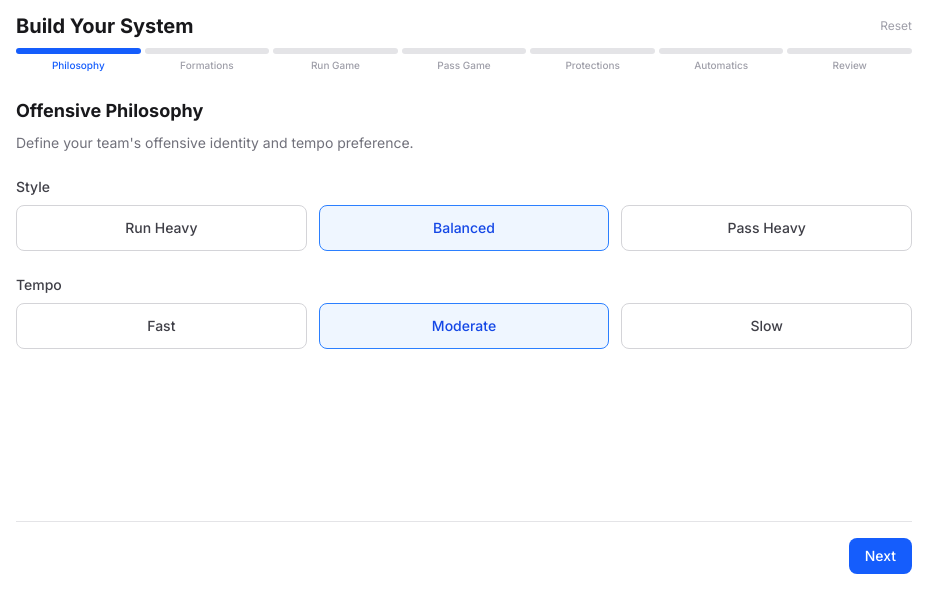
Scenario: SystemBuilder › resets to default state when clicking Reset
The image size is (930, 591).
// Navigate to formations
Click the button with test id "next-button" at (880, 556), box [849,538,912,574]
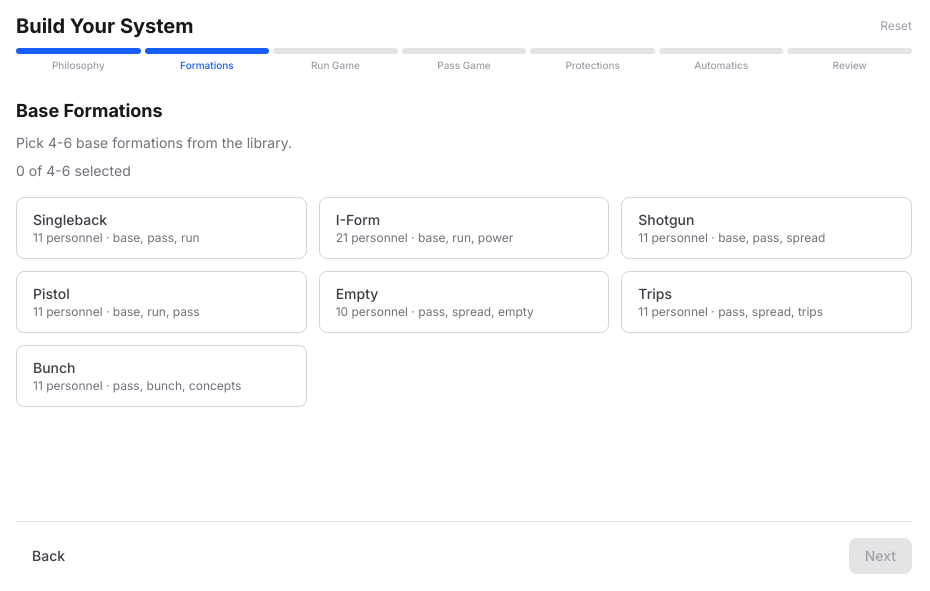
Result: the element with test id "step-formations" is shown at [16,97,912,407]
Click the button with test id "reset-button" at (896, 26), box [880,18,912,34]
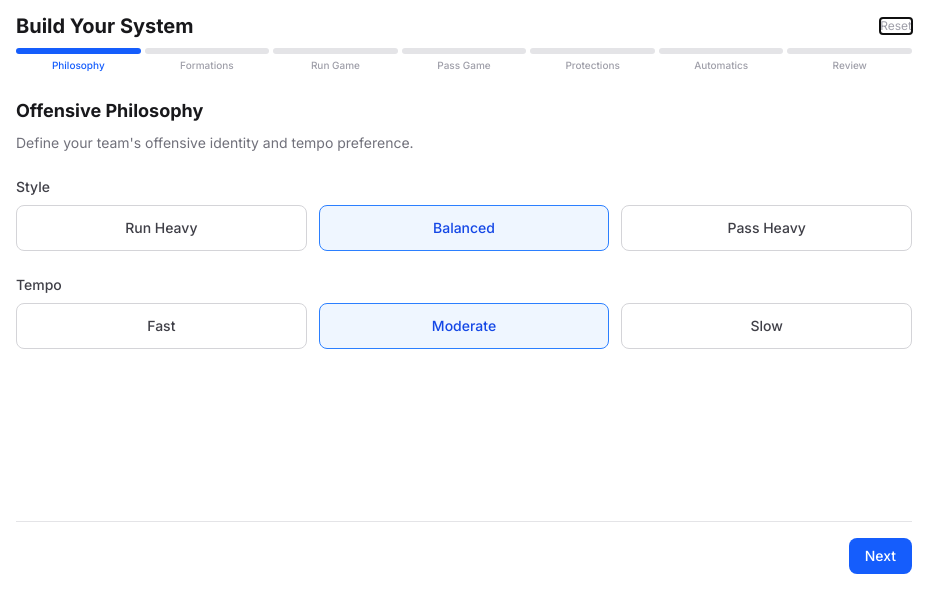
Result: the element with test id "step-philosophy" is shown at [16,97,912,349]
